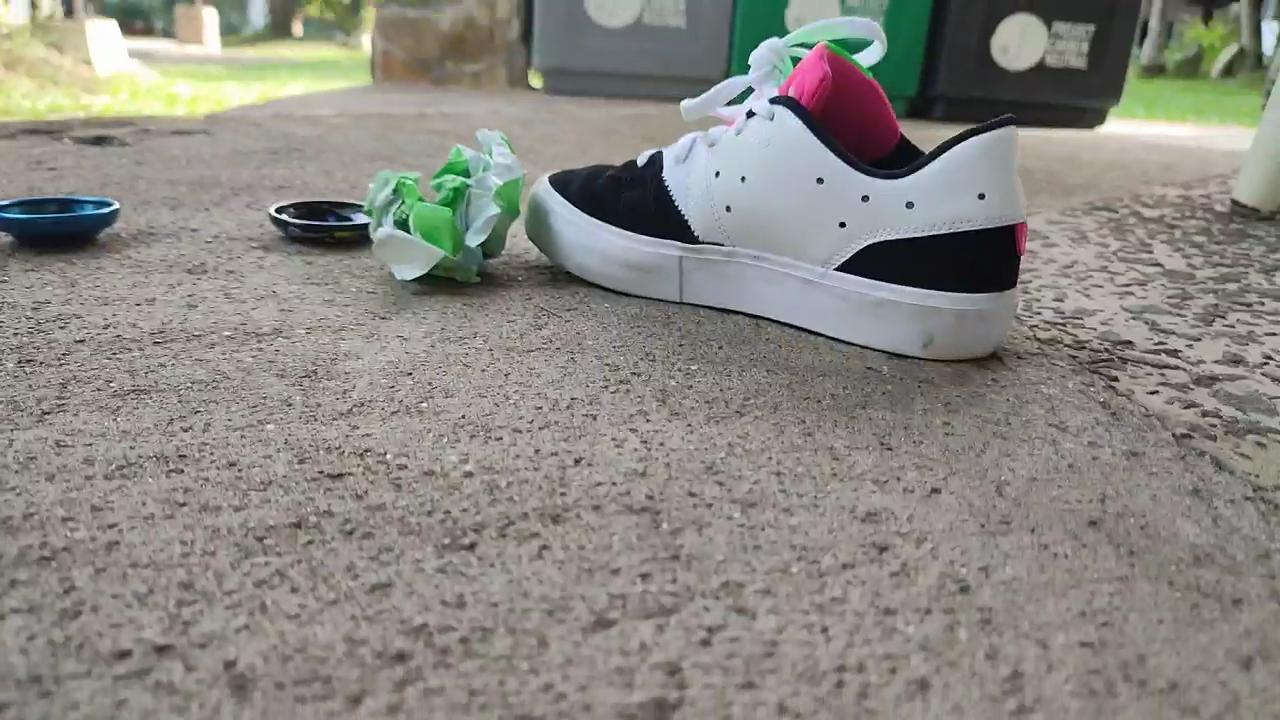Paper: (345, 88, 539, 330)
